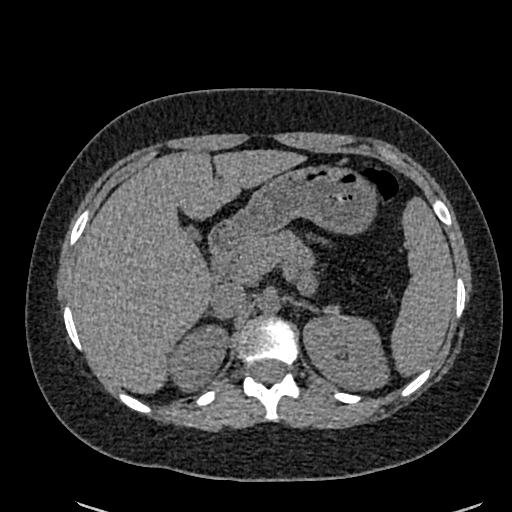Lesion: (322, 301, 341, 321)
